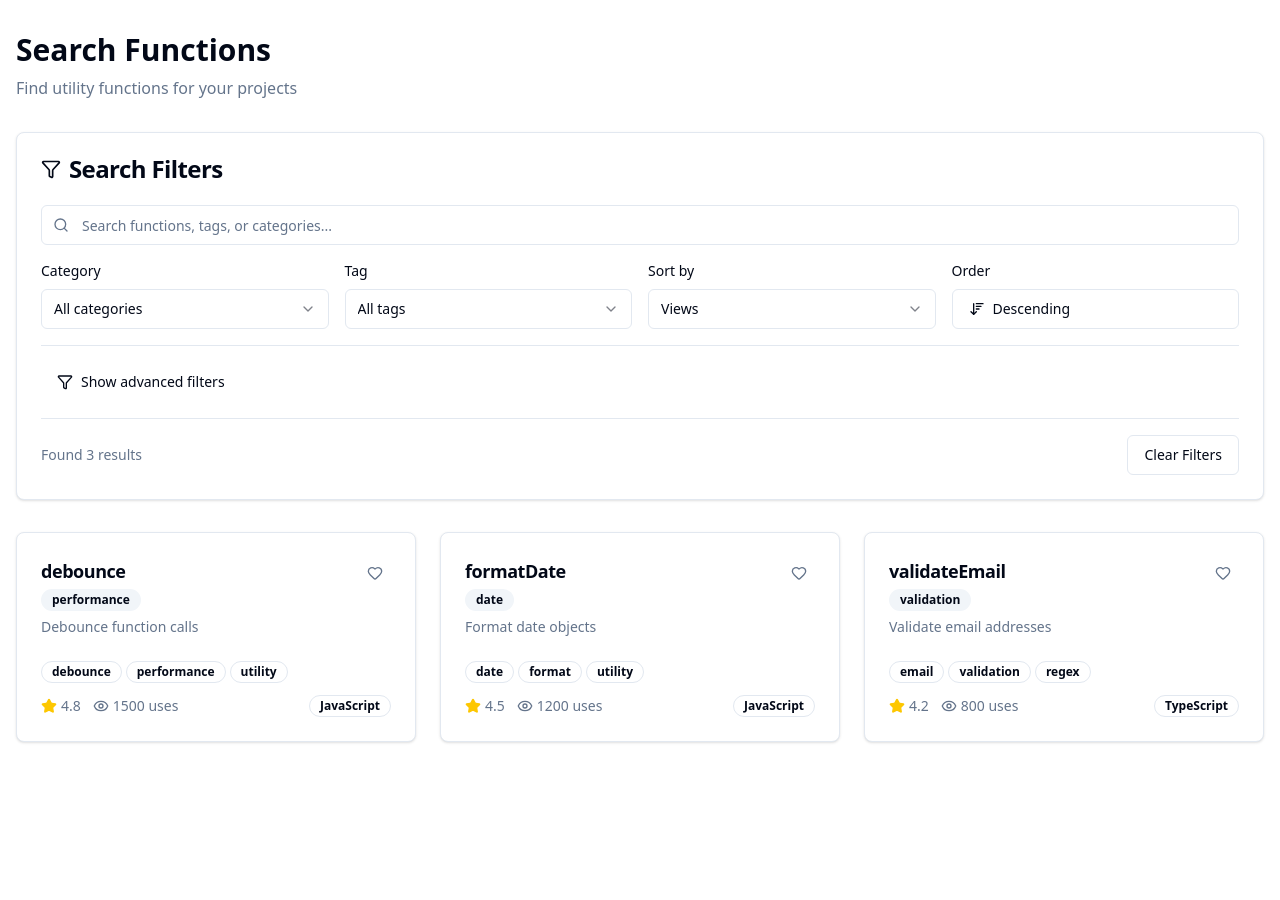
SearchPage › shows advanced filters when toggled
Click the button "Show advanced filters".
click(141, 382)  # box [41,362,241,402]
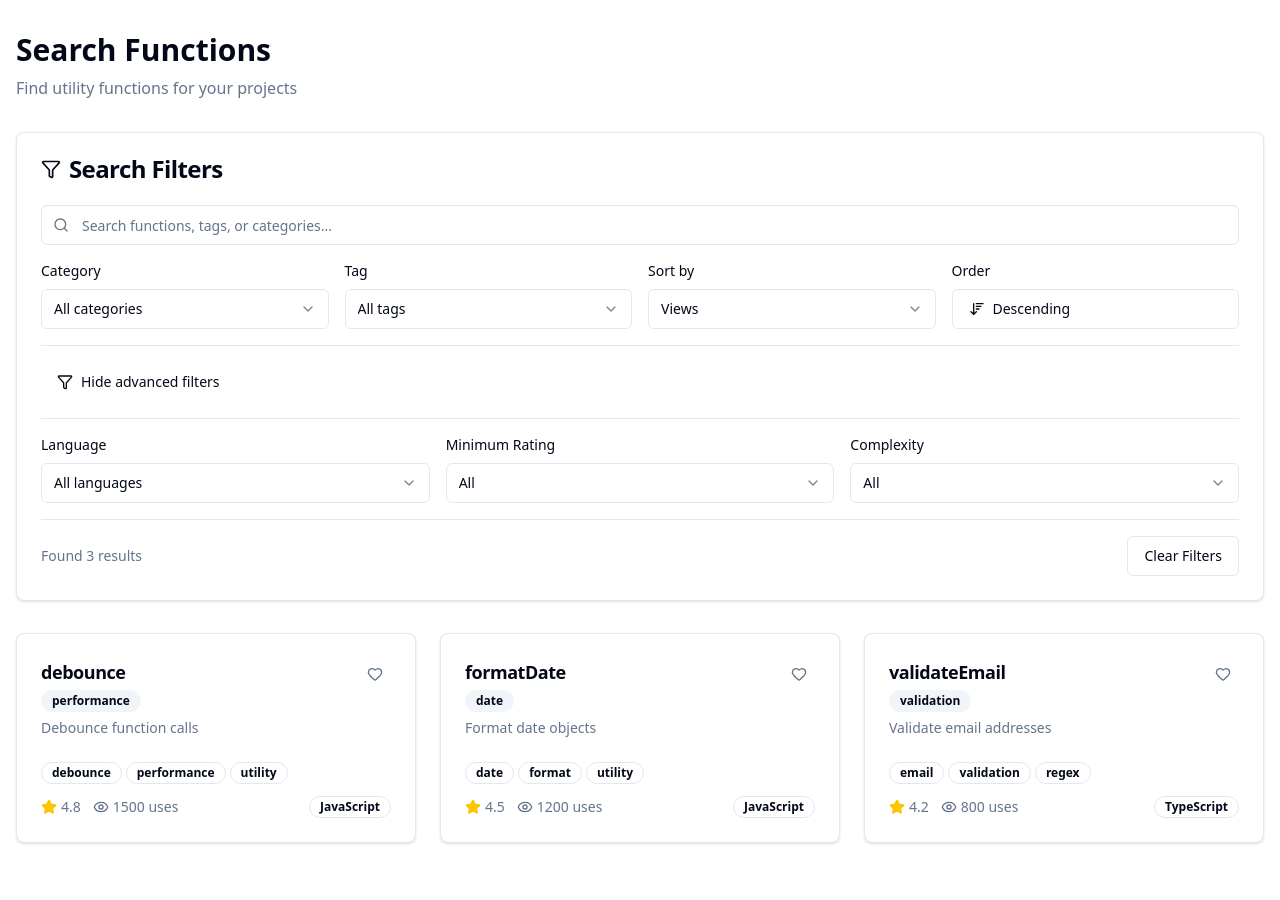
Expected: the text "Language" is shown, [41,435,106,454]
Expected: the text "Minimum Rating" is shown, [446,435,555,454]
Expected: the text "Complexity" is shown, [850,435,924,454]
